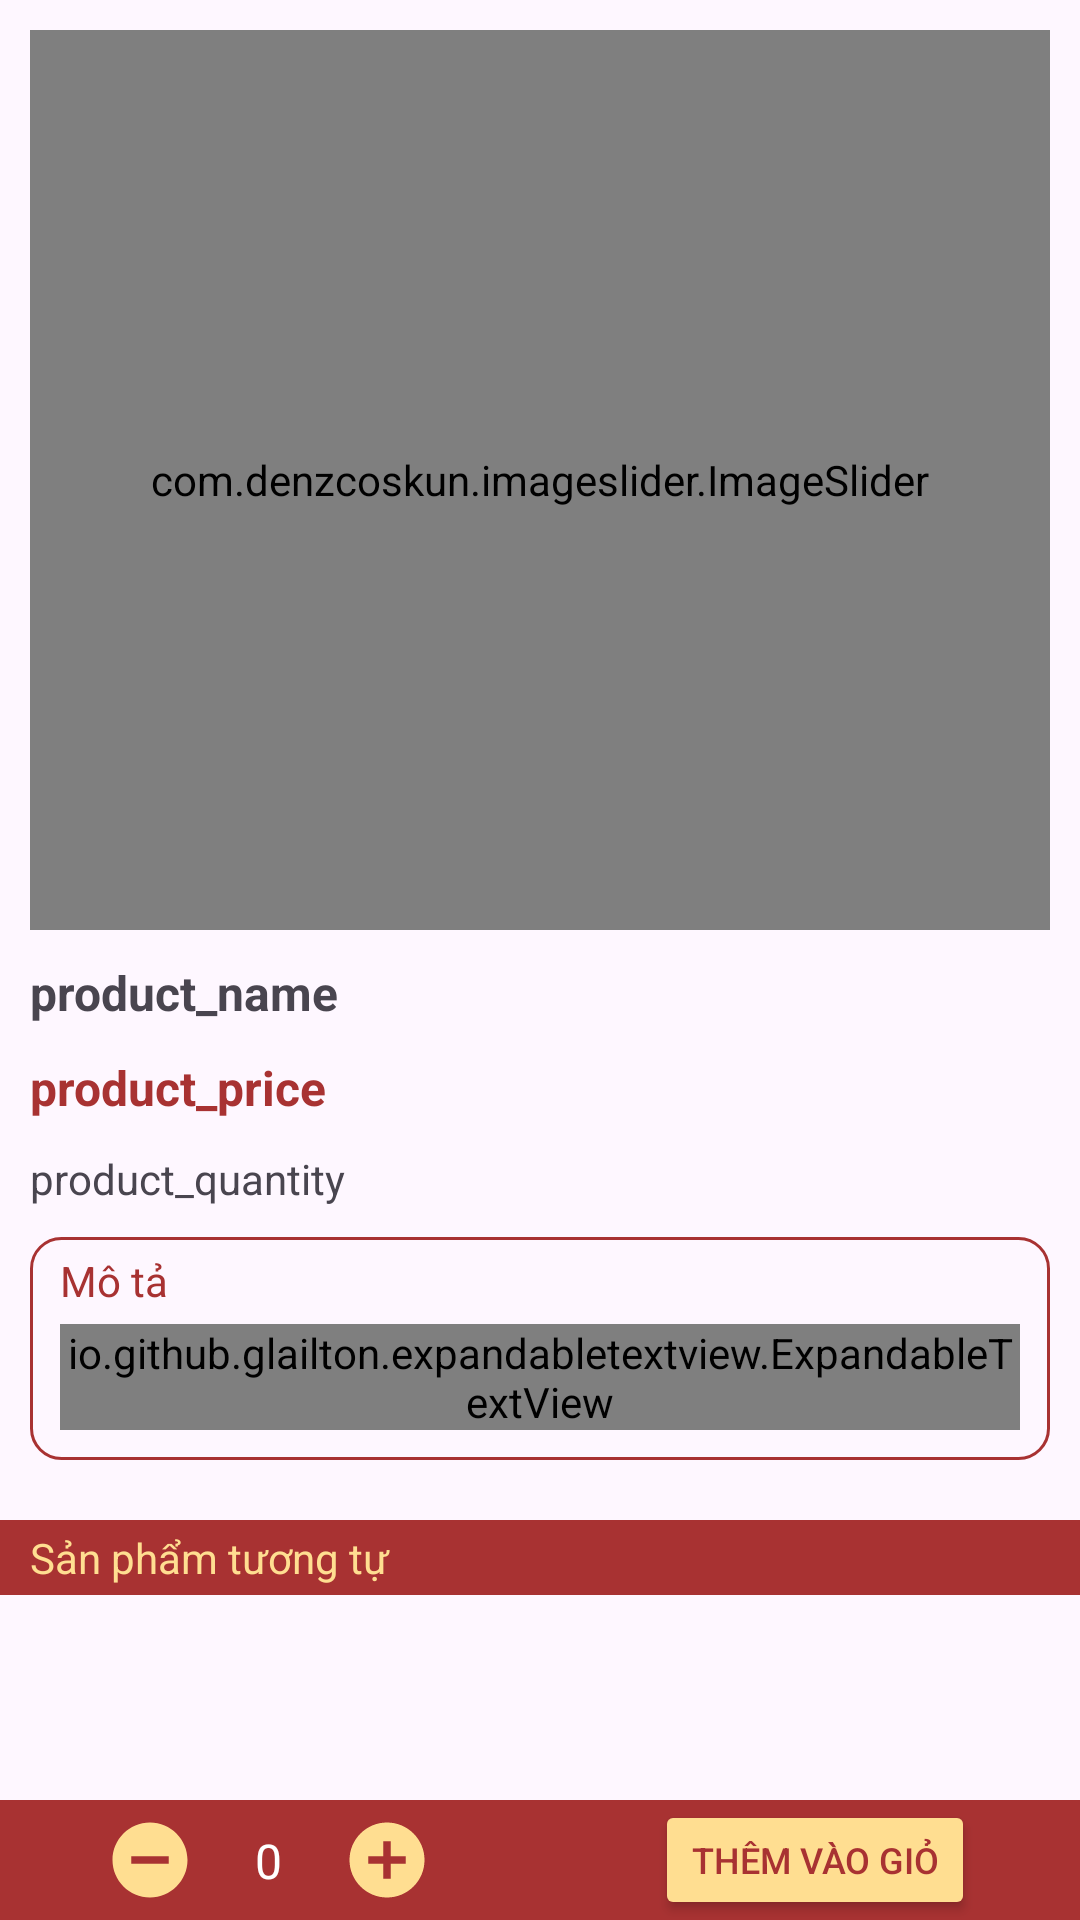

Screen size 1080 × 1920. Icon name, then its box in pixels as (left=x1, top=y1, right=x2, bottom=y2):
minus quantity: (left=112, top=1822, right=188, bottom=1898)
plus quantity: (left=349, top=1822, right=425, bottom=1898)
